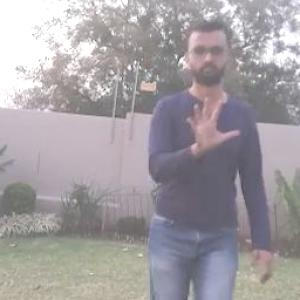follow_hand: (183, 89, 242, 151)
